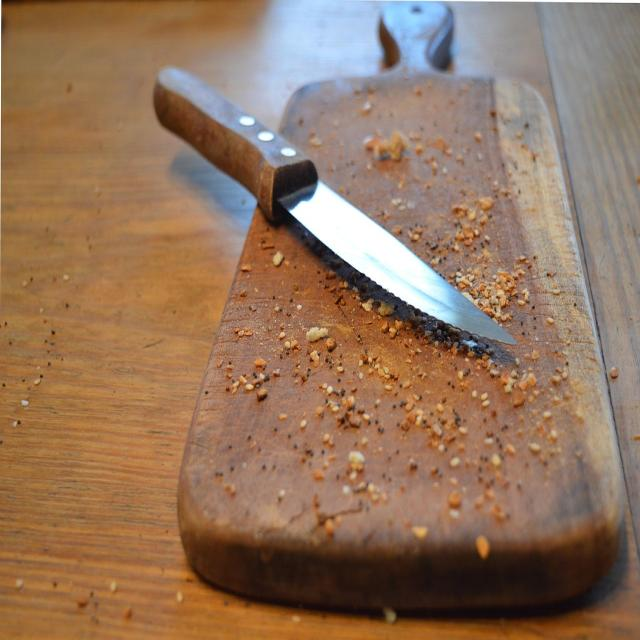Knife: (156, 70, 515, 343)
